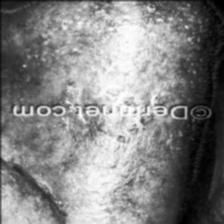Potentially Malignant Skin Tumors: (102, 84, 122, 96), (119, 93, 135, 106), (127, 124, 140, 134)
